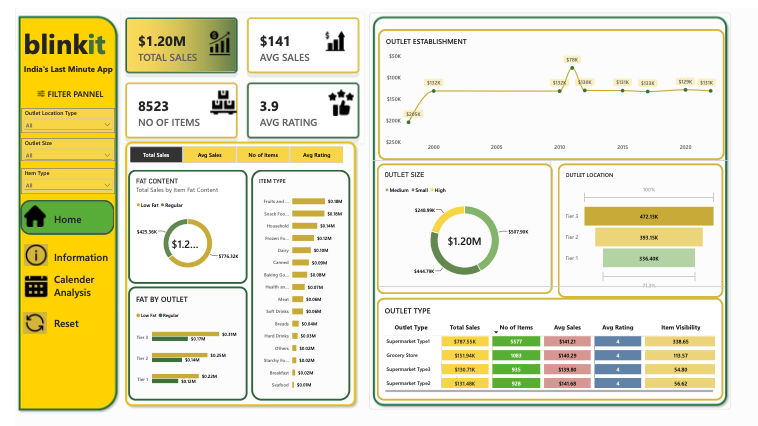

Layout of this report page (visuals, bound fields, positions):
{"tool":"powerbi","page":{"name":"Home","canvas":[1920,1080],"ordinal":0},"visuals":[{"type":"shape","box":[0,13.3,280,1065],"z":0},{"type":"textbox","box":[299,836,289,231],"z":1000},{"type":"textbox","box":[22.5,42.5,242.5,102.5],"z":2000},{"type":"textbox","box":[299,686,289,150],"z":3000},{"type":"textbox","box":[22.5,145,243.4,45.3],"z":4000},{"type":"cardVisual","fields":{"Data":["BlinkIT Grocery Data.Total Sales","BlinkIT Grocery Data.Avg Sales","BlinkIT Grocery Data.No of Items","BlinkIT Grocery Data.Avg Rating"]},"box":[280,13.3,646.7,346.7],"z":5000},{"type":"shape","box":[283.3,346.7,630,720],"z":6000},{"type":"donutChart","title":"FAT CONTENT","fields":{"Category":["BlinkIT Grocery Data.Item Fat Content"],"Y":["BlinkIT Grocery Data.Total Sales"]},"box":[300,430,316.7,303.3],"z":7000},{"type":"slicer","fields":{"Values":["Metrics.Metrics"]},"box":[283.3,366.7,606.7,46.7],"z":8000},{"type":"clusteredBarChart","title":"FAT BY OUTLET","fields":{"Category":["BlinkIT Grocery Data.Outlet Location Type"],"Series":["BlinkIT Grocery Data.Item Fat Content"],"Y":["BlinkIT Grocery Data.Total Sales"]},"box":[300,740,316.7,303.3],"z":9000},{"type":"barChart","title":"ITEM TYPE","fields":{"Category":["BlinkIT Grocery Data.Item Type"],"Y":["BlinkIT Grocery Data.Total Sales"]},"box":[626.7,430,263.3,613.3],"z":12000},{"type":"shape","box":[940,13.3,960,1053.3],"z":13000},{"type":"lineChart","title":"OUTLET ESTABLISHMENT","fields":{"Category":["BlinkIT Grocery Data.Outlet Establishment Year"],"Y":["BlinkIT Grocery Data.Total Sales"]},"box":[962,58,920,348],"z":14000},{"type":"shape","box":[950,335.7,942.9,138.1],"z":15000},{"type":"donutChart","title":"OUTLET SIZE","fields":{"Category":["BlinkIT Grocery Data.Outlet Size"],"Y":["BlinkIT Grocery Data.Total Sales"]},"box":[960,413.3,466.7,346.7],"z":16000},{"type":"funnel","title":"OUTLET LOCATION","fields":{"Category":["BlinkIT Grocery Data.Outlet Location Type"],"Y":["Sum(BlinkIT Grocery Data. Sales)"]},"box":[1440,413.3,440,356.7],"z":17000},{"type":"shape","box":[1345.7,408,150.3,343.6],"z":18000},{"type":"pivotTable","title":"OUTLET TYPE","fields":{"Rows":["BlinkIT Grocery Data.Outlet Type"],"Values":["BlinkIT Grocery Data.Total Sales","BlinkIT Grocery Data.No of Items","BlinkIT Grocery Data.Avg Sales","BlinkIT Grocery Data.Avg Rating","Sum(BlinkIT Grocery Data.Item Visibility)"]},"box":[960,770,920,273.3],"z":19000},{"type":"shape","box":[962.5,690,921,100.2],"z":20000},{"type":"slicer","fields":{"Values":["BlinkIT Grocery Data.Outlet Location Type"]},"box":[15,267.5,248,66],"z":21000},{"type":"slicer","fields":{"Values":["BlinkIT Grocery Data.Outlet Size"]},"box":[15,347.5,248,60],"z":22000},{"type":"slicer","fields":{"Values":["BlinkIT Grocery Data.Item Type"]},"box":[15,425,248,68],"z":23000},{"type":"textbox","box":[87.5,212.5,175,36.7],"z":24000},{"type":"image","box":[505,215,92.5,70],"z":25000},{"type":"image","box":[815,215,97.5,70],"z":26000},{"type":"image","box":[772.5,60,152.5,57.5],"z":27000},{"type":"image","box":[497.5,60,92.5,67.5],"z":28000},{"type":"actionButton","box":[21.5,806.4,65,60],"z":29000},{"type":"actionButton","box":[23.9,627.5,65,60],"z":31000},{"type":"image","box":[32.5,215,70,23],"z":32000},{"type":"actionButton","box":[23.9,708.6,65,60],"z":33000},{"type":"shape","box":[14.3,510.6,250,92.5],"z":33001},{"type":"image","box":[21.5,524.9,65,60],"z":33002},{"type":"textbox","box":[102.6,524.9,114.5,66.8],"z":33003},{"type":"textbox","box":[102.6,641.8,178.9,66.8],"z":33004},{"type":"textbox","box":[102.6,701.5,116.9,90.7],"z":33005},{"type":"textbox","box":[102.6,816,116.9,66.8],"z":33006}]}

Visuals, with their boxes in screenshot pixels (x1, y1, x2, y2), scaled from the page's 1920x1080 canvas onto the 758x426 screenshot:
shape: detection(0, 5, 111, 425)
textbox: detection(118, 330, 232, 421)
textbox: detection(9, 17, 105, 57)
textbox: detection(118, 271, 232, 330)
textbox: detection(9, 57, 105, 75)
cardVisual - BlinkIT Grocery Data.Total Sales x BlinkIT Grocery Data.Avg Sales: detection(111, 5, 366, 142)
shape: detection(112, 137, 361, 421)
"FAT CONTENT" donutChart: detection(118, 170, 243, 289)
slicer - Metrics.Metrics: detection(112, 145, 351, 163)
"FAT BY OUTLET" clusteredBarChart: detection(118, 292, 243, 412)
"ITEM TYPE" barChart: detection(247, 170, 351, 412)
shape: detection(371, 5, 750, 421)
"OUTLET ESTABLISHMENT" lineChart: detection(380, 23, 743, 160)
shape: detection(375, 132, 747, 187)
"OUTLET SIZE" donutChart: detection(379, 163, 563, 300)
"OUTLET LOCATION" funnel: detection(568, 163, 742, 304)
shape: detection(531, 161, 591, 296)
"OUTLET TYPE" pivotTable: detection(379, 304, 742, 412)
shape: detection(380, 272, 744, 312)
slicer - BlinkIT Grocery Data.Outlet Location Type: detection(6, 106, 104, 132)
slicer - BlinkIT Grocery Data.Outlet Size: detection(6, 137, 104, 161)
slicer - BlinkIT Grocery Data.Item Type: detection(6, 168, 104, 194)
textbox: detection(35, 84, 104, 98)
image: detection(199, 85, 236, 112)
image: detection(322, 85, 360, 112)
image: detection(305, 24, 365, 46)
image: detection(196, 24, 233, 50)
actionButton: detection(8, 318, 34, 342)
actionButton: detection(9, 248, 35, 271)
image: detection(13, 85, 40, 94)
actionButton: detection(9, 280, 35, 303)
shape: detection(6, 201, 104, 238)
image: detection(8, 207, 34, 231)
textbox: detection(41, 207, 86, 233)
textbox: detection(41, 253, 111, 280)
textbox: detection(41, 277, 87, 312)
textbox: detection(41, 322, 87, 348)
